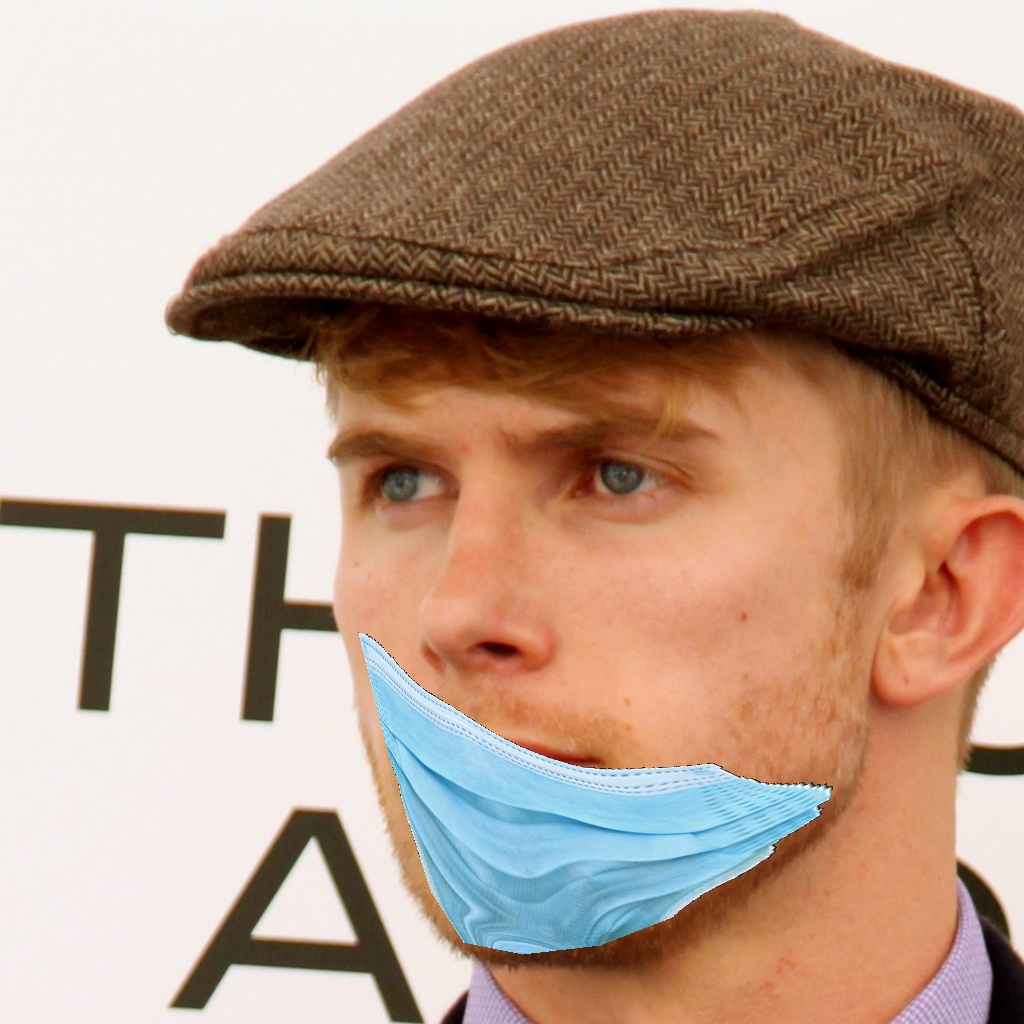mascarilla_mal_puesta: (337, 420, 854, 953)
